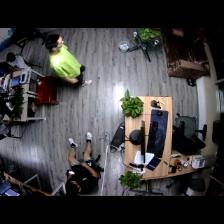normal: (44, 35, 91, 87), (66, 135, 103, 193), (7, 51, 31, 74)
